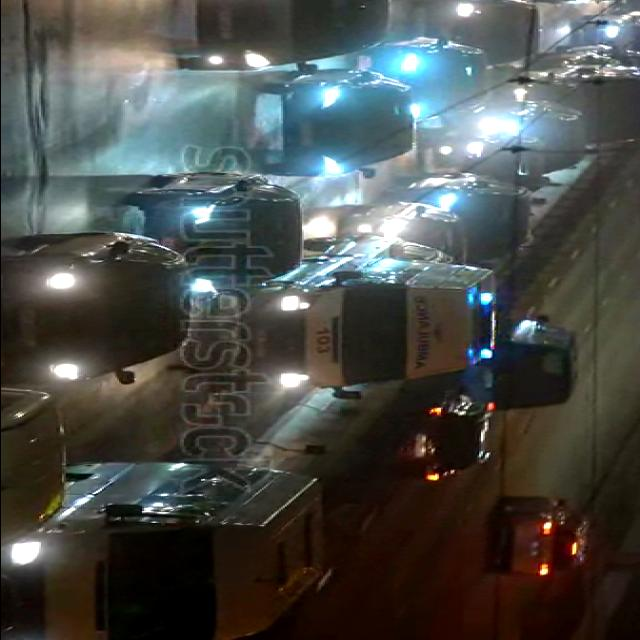ambulance: (229, 255, 495, 402)
